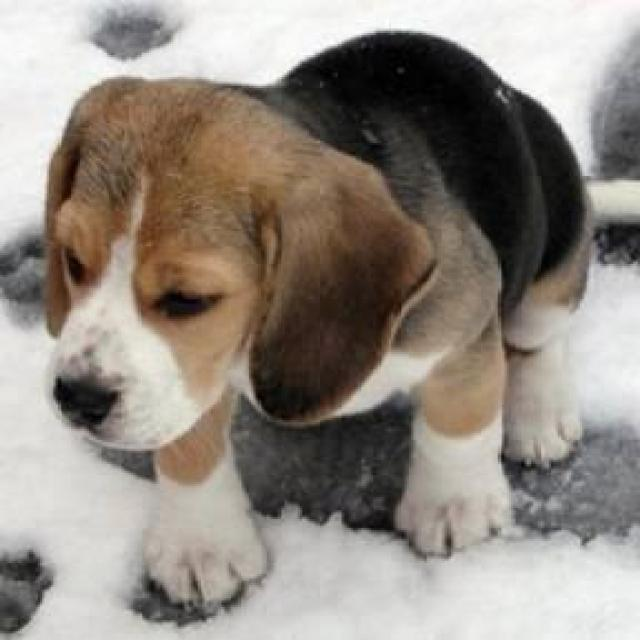beagle: (36, 20, 600, 627)
